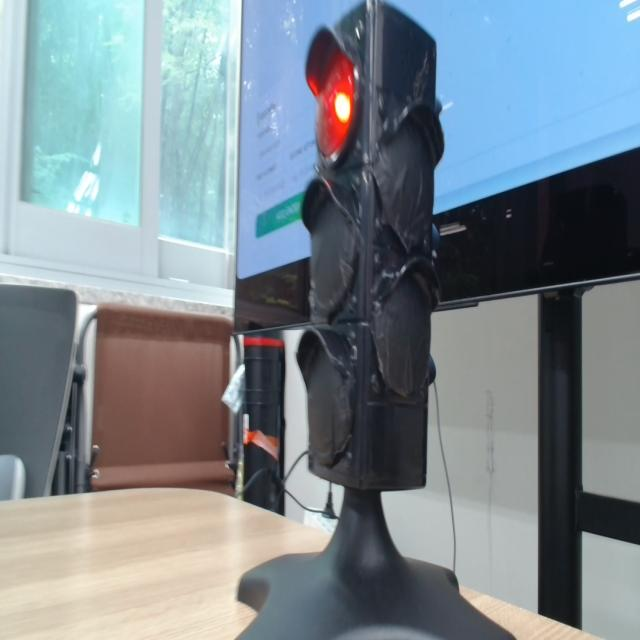red_light: (312, 50, 355, 158)
